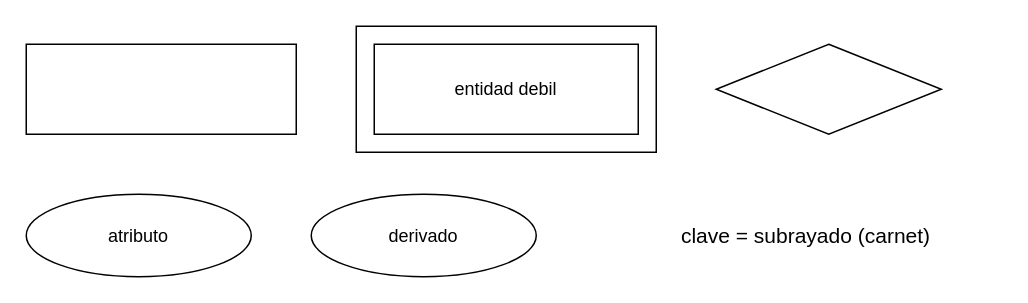
Some shapes in this 1028 by 303 pixel diagram are drawn without their labels. Each missing label, with the centre of its shape:
"entidad fuerte" belongs at (160,88).
"relacion" belongs at (828,88).
